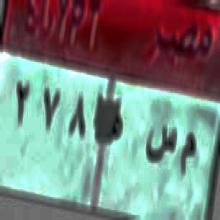2: (9, 71, 35, 141)
7: (38, 84, 63, 142)
8: (65, 93, 91, 150)
meem: (176, 132, 199, 182)
seen: (144, 121, 178, 161)
